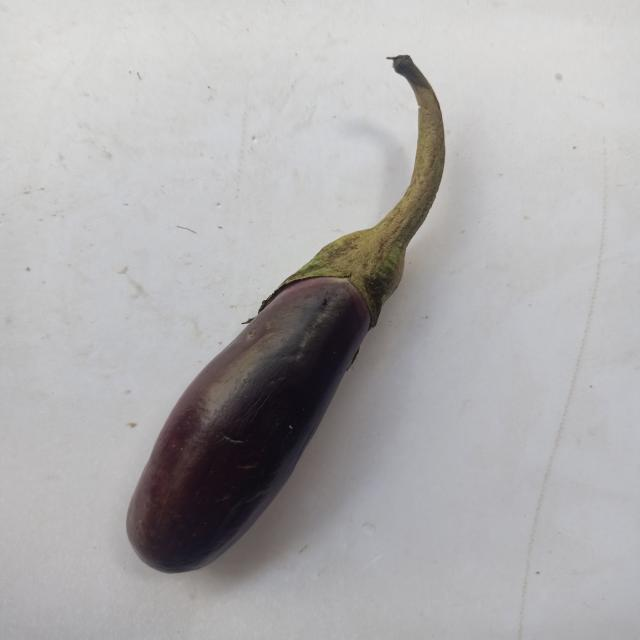Brinjal: (109, 34, 457, 582)
